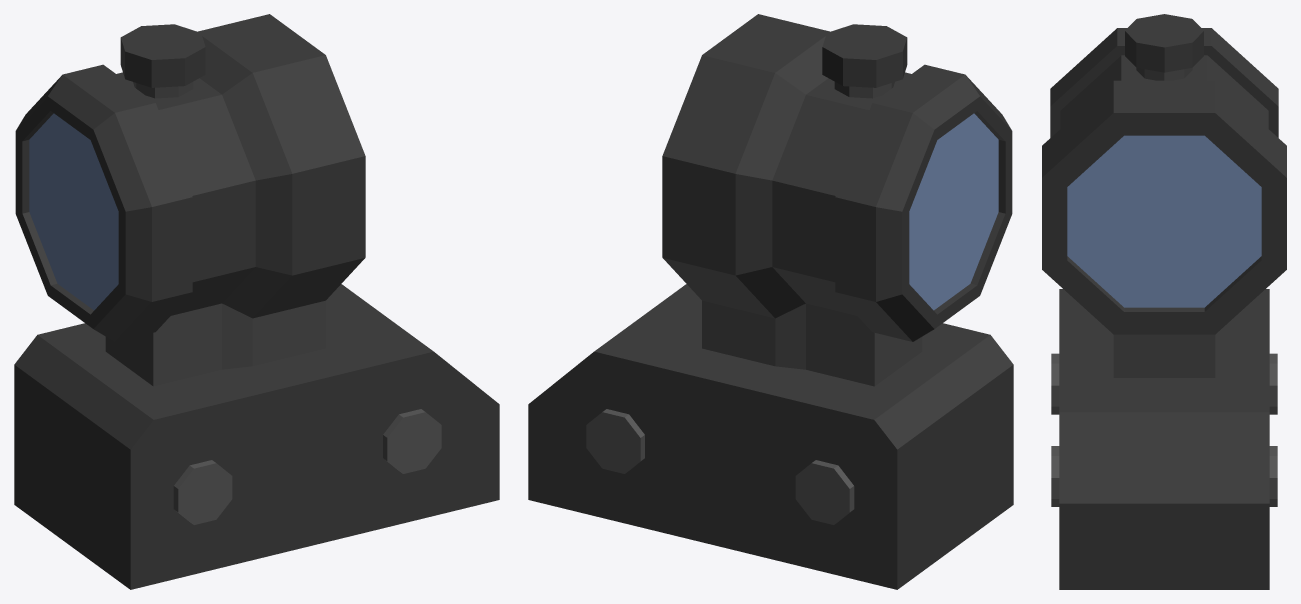
Rendered from Optic_06.fbx.
The picture shows the model from 3 angles, left to right: view 1: azimuth 30°, elevation 25°; view 2: azimuth 150°, elevation 25°; view 3: azimuth 270°, elevation 25°; orthographic projection. The views are drawn at different scales.
Parts seen in each view (by area): view 1: Optic_06; view 2: Optic_06; view 3: Optic_06.
Boxes of the visible parts, bbox=[...] form: Optic_06: bbox=[14, 14, 499, 589]; Optic_06: bbox=[528, 14, 1013, 589]; Optic_06: bbox=[1042, 14, 1286, 589].
Size of the model in its own units: 0.0463 by 0.0576 by 0.0293.
